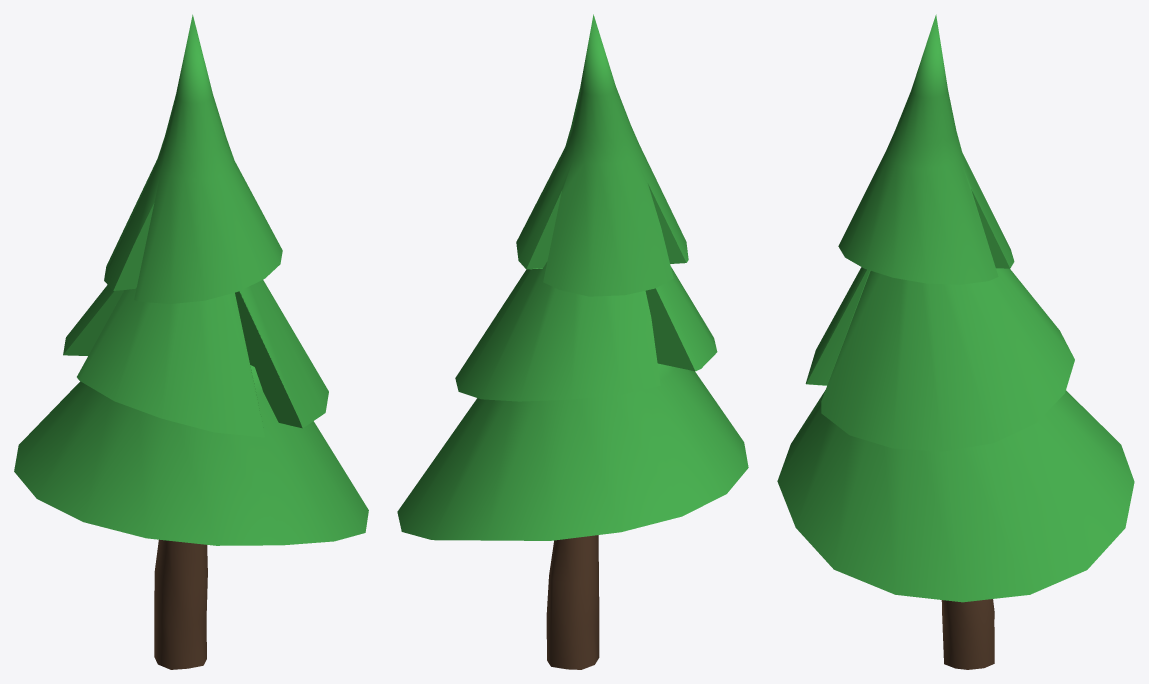
The model's file is WF_PCGTree.08.glb.
The picture shows the model from 3 angles, left to right: view 1: azimuth 30°, elevation 25°; view 2: azimuth 150°, elevation 25°; view 3: azimuth 270°, elevation 25°; orthographic projection. The views are drawn at different scales.
Visible parts, largest first — view 1: Tree.08; view 2: Tree.08; view 3: Tree.08.
Part boxes in pixels (left/top/right/bottom): Tree.08: left=14, top=14, right=368, bottom=669; Tree.08: left=397, top=14, right=748, bottom=669; Tree.08: left=777, top=14, right=1134, bottom=669.
Bounding box in the file's own units: 0.7245 × 1.45 × 0.73.
